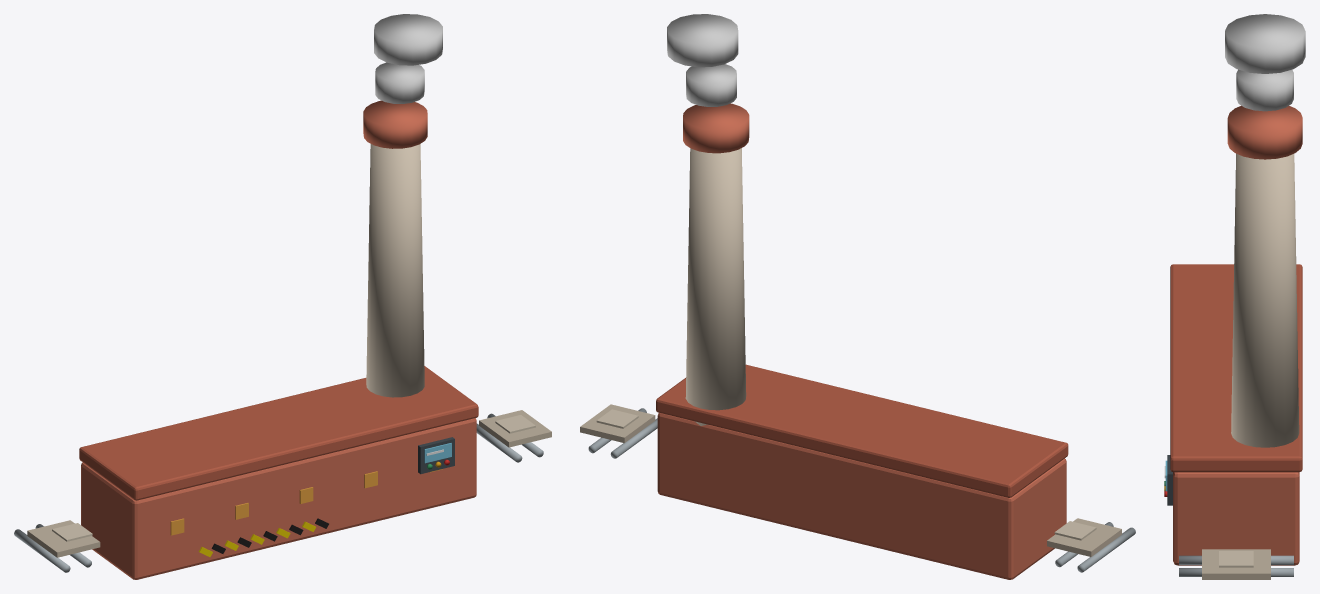
Rendered from m_kiln.glb.
3 views of the same model, side by side, from view 1: azimuth 30°, elevation 25°; view 2: azimuth 150°, elevation 25°; view 3: azimuth 270°, elevation 25° (orthographic). The views are drawn at different scales.
Parts seen in each view (by area): view 1: m_kiln; view 2: m_kiln; view 3: m_kiln.
Boxes of the visible parts, <box> form: m_kiln: <box>14,14,551,579</box>; m_kiln: <box>580,14,1135,579</box>; m_kiln: <box>1164,14,1305,579</box>.
Bounding box in the file's own units: 1.16 × 0.995 × 0.245.
